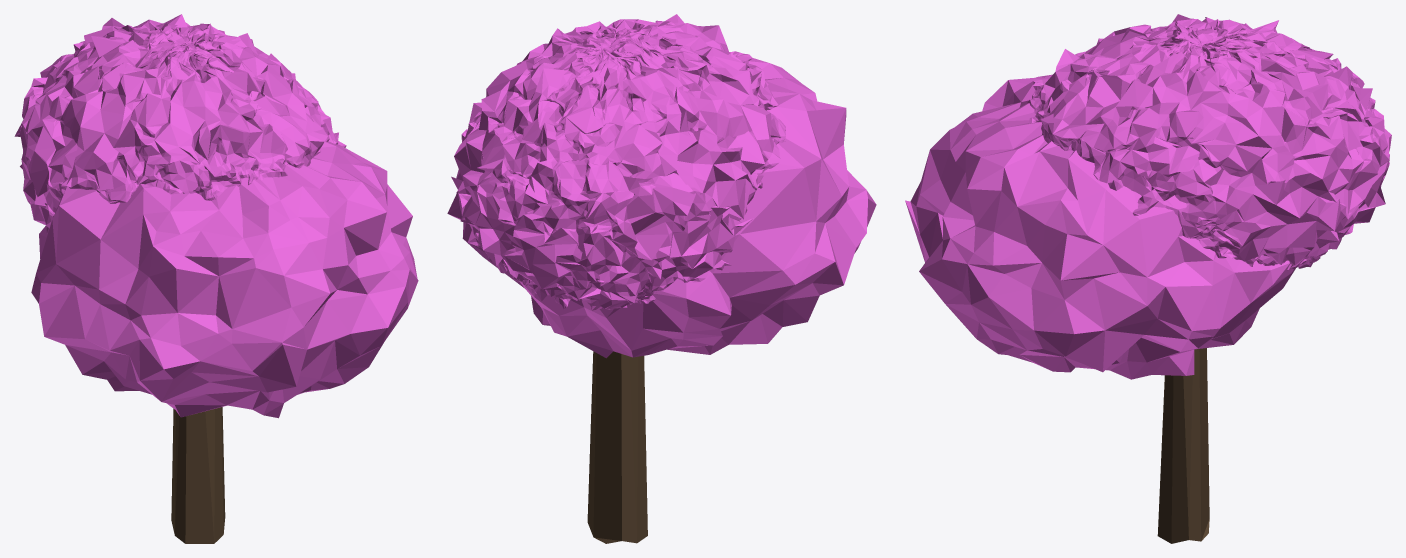
The model's file is redbud_tree.fbx.
3 renders of one model, left to right at view 1: azimuth 30°, elevation 25°; view 2: azimuth 150°, elevation 25°; view 3: azimuth 270°, elevation 25°, orthographic. The views are drawn at different scales.
Parts seen in each view (by area): view 1: redbud_tree; view 2: redbud_tree; view 3: redbud_tree.
Part boxes in pixels (x1=…): redbud_tree: x1=14, y1=14, x2=418, y2=543; redbud_tree: x1=447, y1=14, x2=876, y2=543; redbud_tree: x1=905, y1=14, x2=1391, y2=543.
Size of the model in its own units: 513 by 697 by 616.
